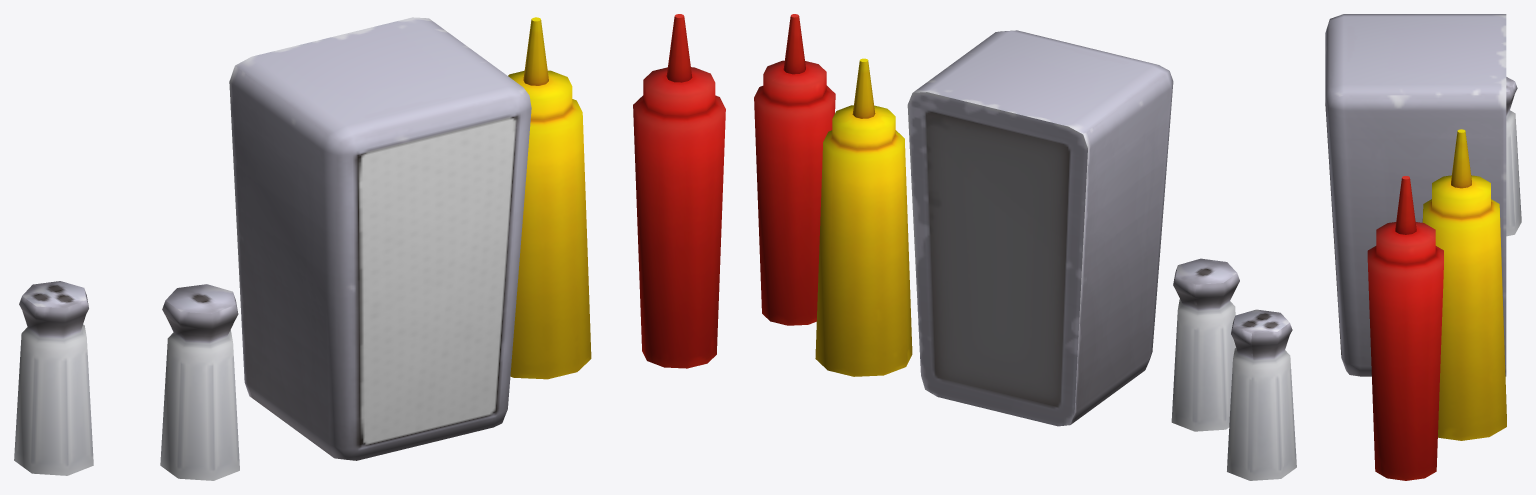
File: CafeTableTopSet01_2.FBX
The picture shows the model from 3 angles, left to right: view 1: azimuth 30°, elevation 25°; view 2: azimuth 150°, elevation 25°; view 3: azimuth 270°, elevation 25°; orthographic projection. The views are drawn at different scales.
Parts seen in each view (by area): view 1: CafeTableTopSet01_2; view 2: CafeTableTopSet01_2; view 3: CafeTableTopSet01_2.
Part boxes in pixels (x1,y1,x2,y2): CafeTableTopSet01_2: [14, 14, 725, 480]; CafeTableTopSet01_2: [754, 14, 1296, 480]; CafeTableTopSet01_2: [1325, 14, 1521, 480].
Size of what is drawn, in the model's own units: 0.5146 by 0.2602 by 0.1569.
